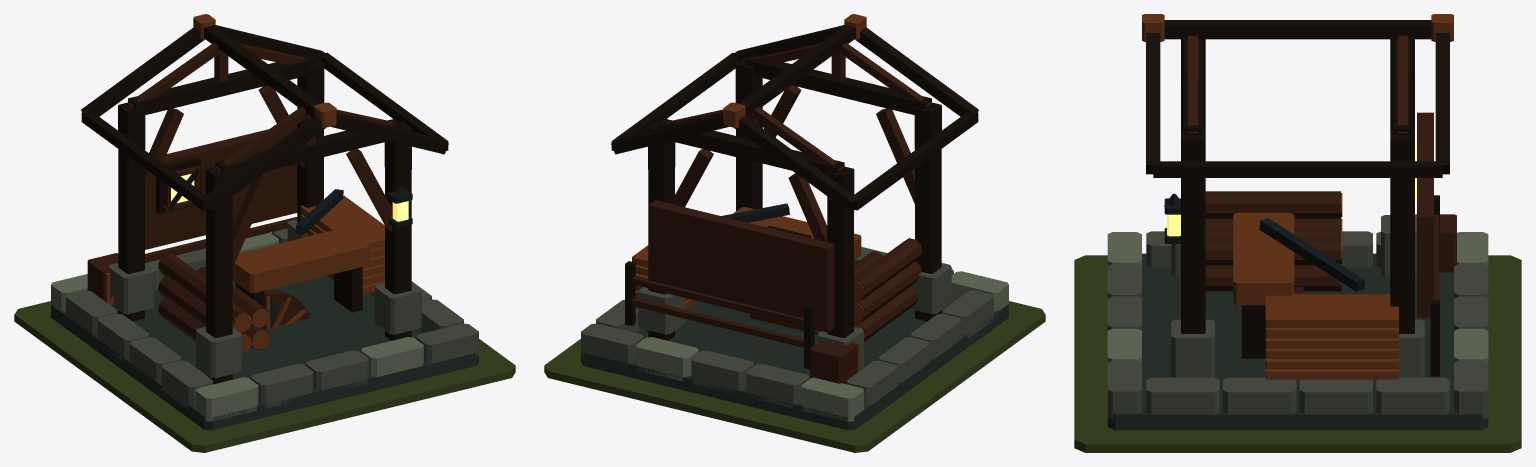
Rendered from sawmill_t5.glb.
3 renders of one model, left to right at view 1: azimuth 30°, elevation 25°; view 2: azimuth 150°, elevation 25°; view 3: azimuth 270°, elevation 25°, orthographic. The views are drawn at different scales.
Parts seen in each view (by area): view 1: MMR | sawmill | T05 Architecture.001, MMR | sawmill | Tier 05 Ground.001, MMR | sawmill | T05 Header Frame.001, MMR | sawmill | T05 Drive Wheel.001; view 2: MMR | sawmill | T05 Architecture.001, MMR | sawmill | Tier 05 Ground.001, MMR | sawmill | T05 Header Frame.001; view 3: MMR | sawmill | T05 Architecture.001, MMR | sawmill | Tier 05 Ground.001, MMR | sawmill | T05 Header Frame.001.
Part boxes in pixels (left/top/right/bottom): MMR | sawmill | T05 Architecture.001: left=51, top=14, right=478, bottom=430; MMR | sawmill | Tier 05 Ground.001: left=14, top=301, right=515, bottom=452; MMR | sawmill | T05 Header Frame.001: left=118, top=42, right=411, bottom=217; MMR | sawmill | T05 Drive Wheel.001: left=264, top=290, right=309, bottom=329; MMR | sawmill | T05 Architecture.001: left=581, top=14, right=1008, bottom=430; MMR | sawmill | Tier 05 Ground.001: left=544, top=301, right=1045, bottom=452; MMR | sawmill | T05 Header Frame.001: left=648, top=42, right=941, bottom=217; MMR | sawmill | T05 Architecture.001: left=1107, top=14, right=1488, bottom=430; MMR | sawmill | Tier 05 Ground.001: left=1074, top=255, right=1521, bottom=452; MMR | sawmill | T05 Header Frame.001: left=1181, top=35, right=1414, bottom=189.
Bounding box in the file's own units: 2.35 × 2.26 × 2.35.
Materials: 2 (1 with a texture image).
